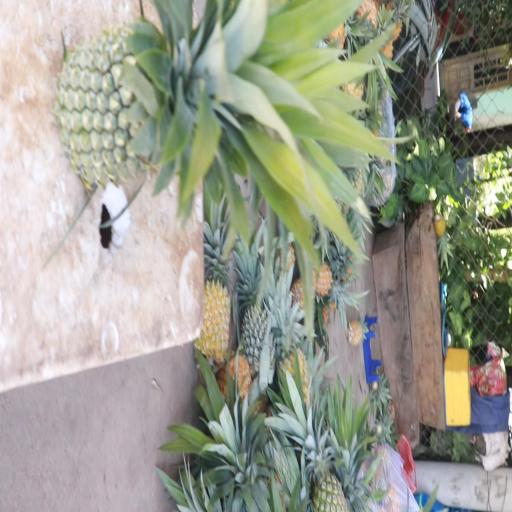------------------------------: (62, 9, 337, 189), (280, 391, 348, 512)
Pineapple - v8 v1: (198, 227, 237, 370), (272, 292, 314, 403)
